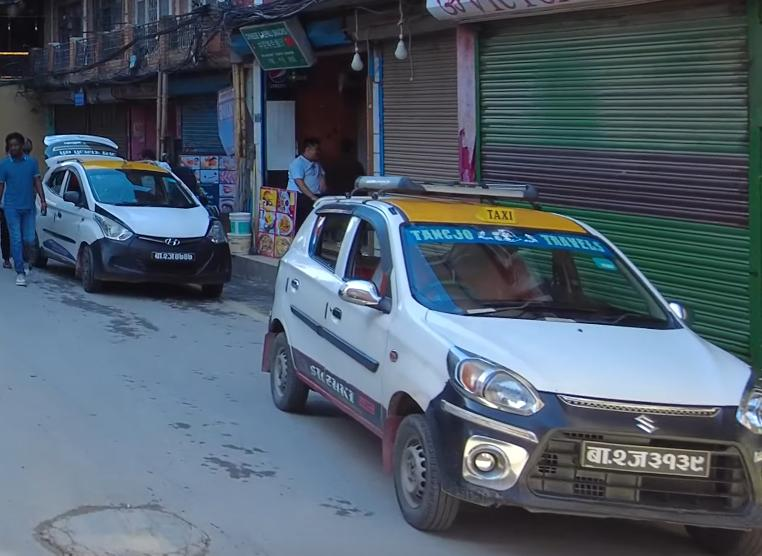taxi: (272, 172, 762, 556), (19, 138, 248, 306)
